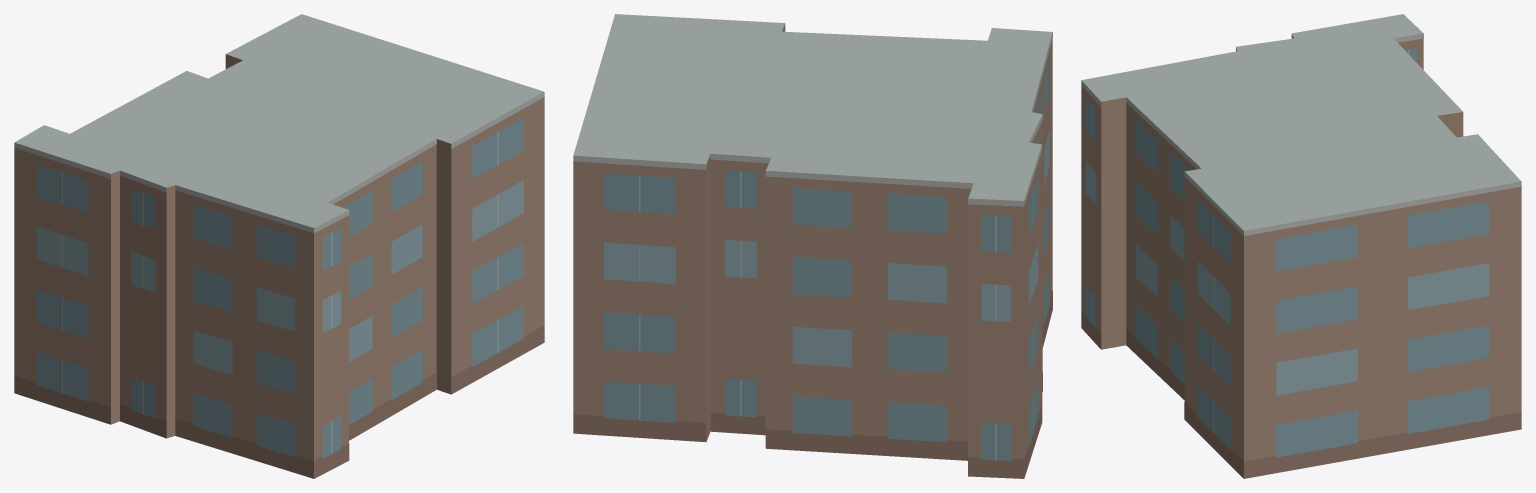
Rendered from survey-upis-32600815.glb.
The picture shows the model from 3 angles, left to right: view 1: azimuth 30°, elevation 25°; view 2: azimuth 150°, elevation 25°; view 3: azimuth 270°, elevation 25°; orthographic projection. The views are drawn at different scales.
Visible parts, largest first — view 1: survey-upis-32600815.tmp; view 2: survey-upis-32600815.tmp; view 3: survey-upis-32600815.tmp.
Boxes of the visible parts, <box> form: survey-upis-32600815.tmp: <box>14,14,544,478</box>; survey-upis-32600815.tmp: <box>573,14,1052,478</box>; survey-upis-32600815.tmp: <box>1081,14,1521,478</box>.
Bounding box in the file's own units: 22.16 × 11.8 × 19.
